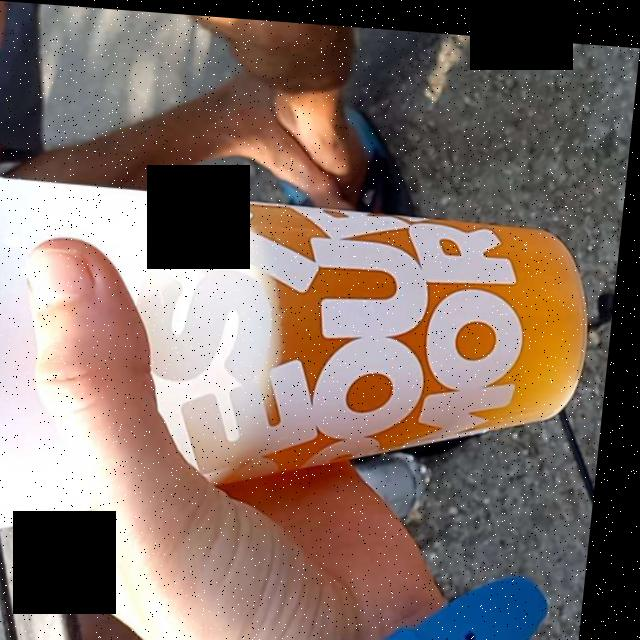beer: (237, 204, 583, 468)
